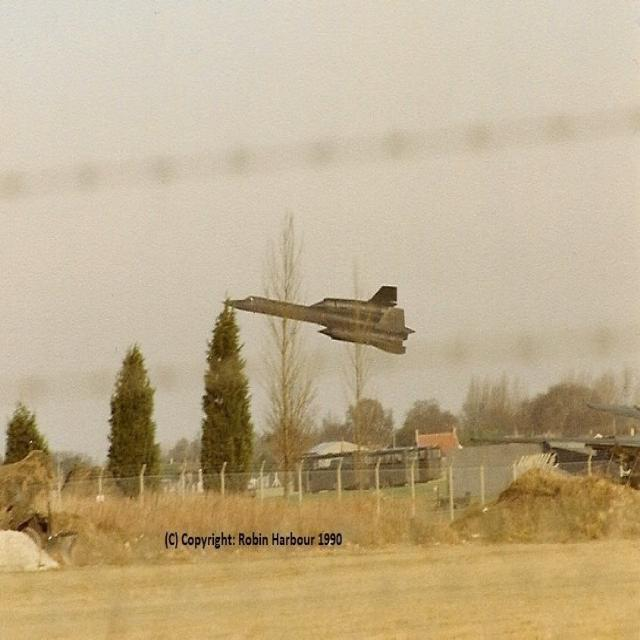MIL_Plane: (220, 285, 416, 355)
